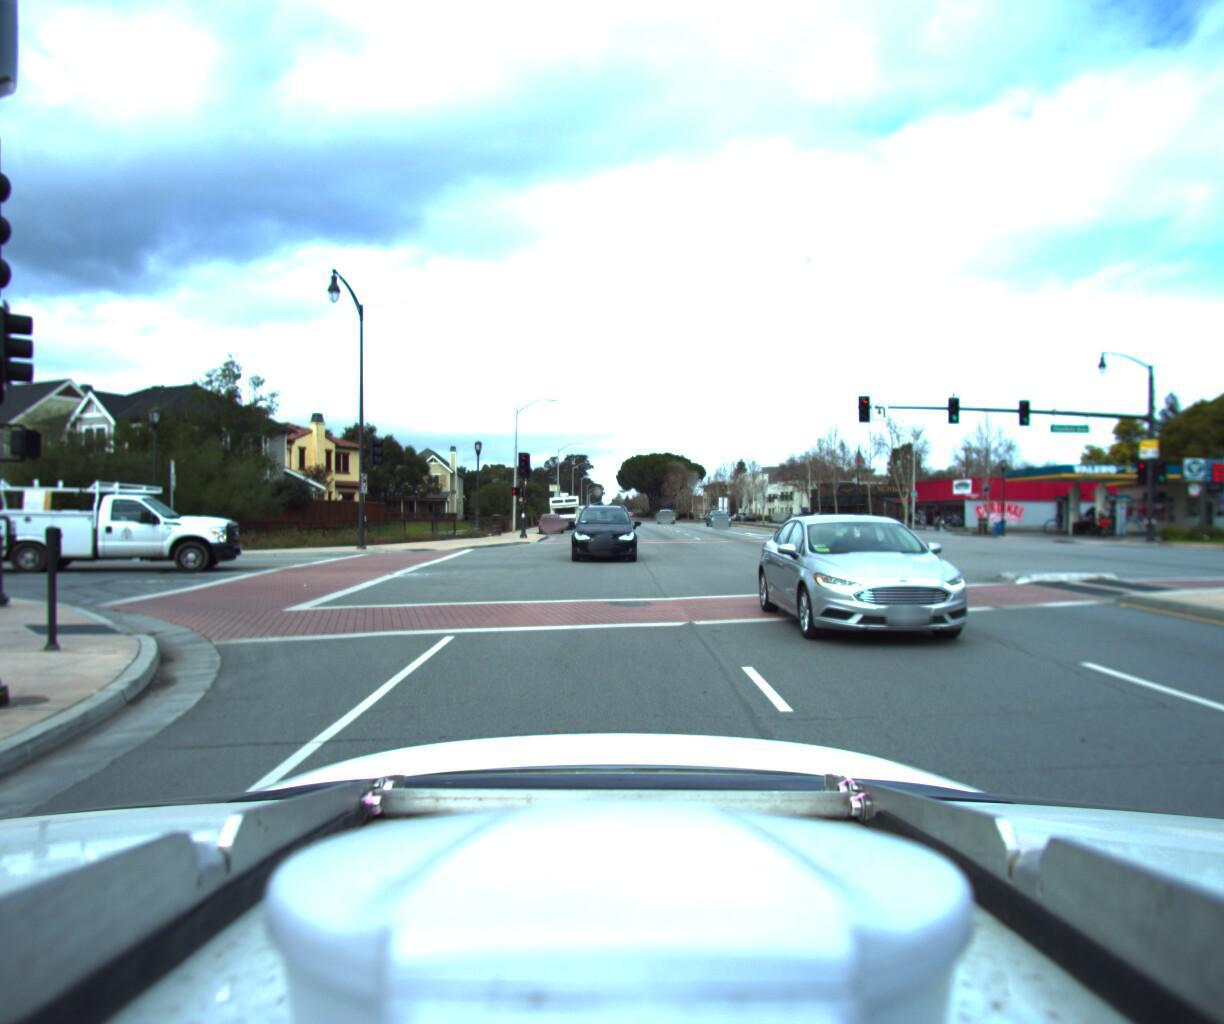car: (771, 502, 1056, 676), (0, 474, 249, 576), (565, 497, 630, 558), (539, 505, 562, 527)
motorcycle: (1079, 504, 1113, 529)
other_vehicle: (546, 485, 580, 522)
